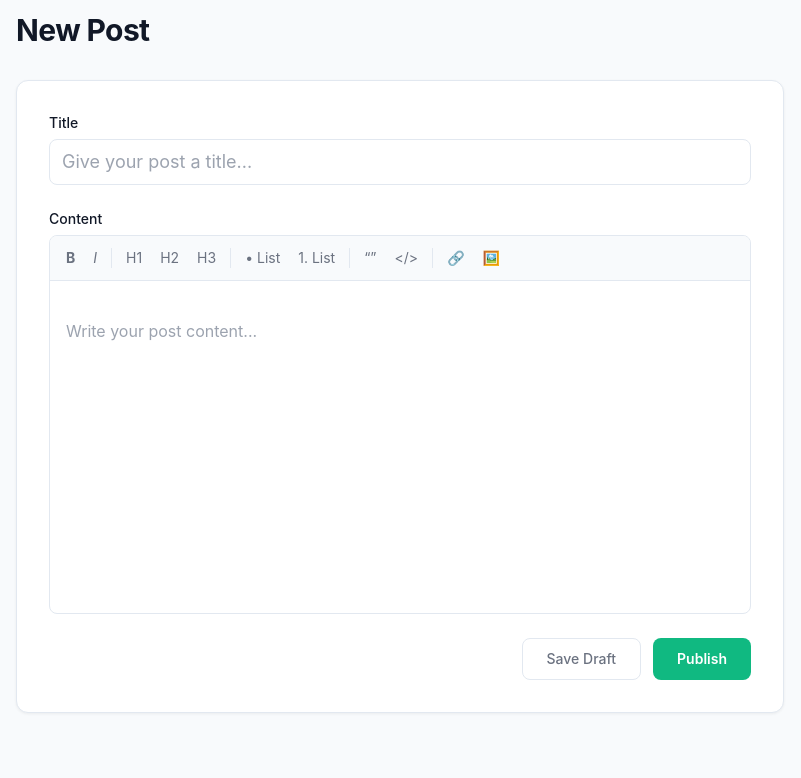
EditorPage › shows validation error when title is empty
Click the button "Save Draft": {"x": 581, "y": 659} [522,638,641,680]
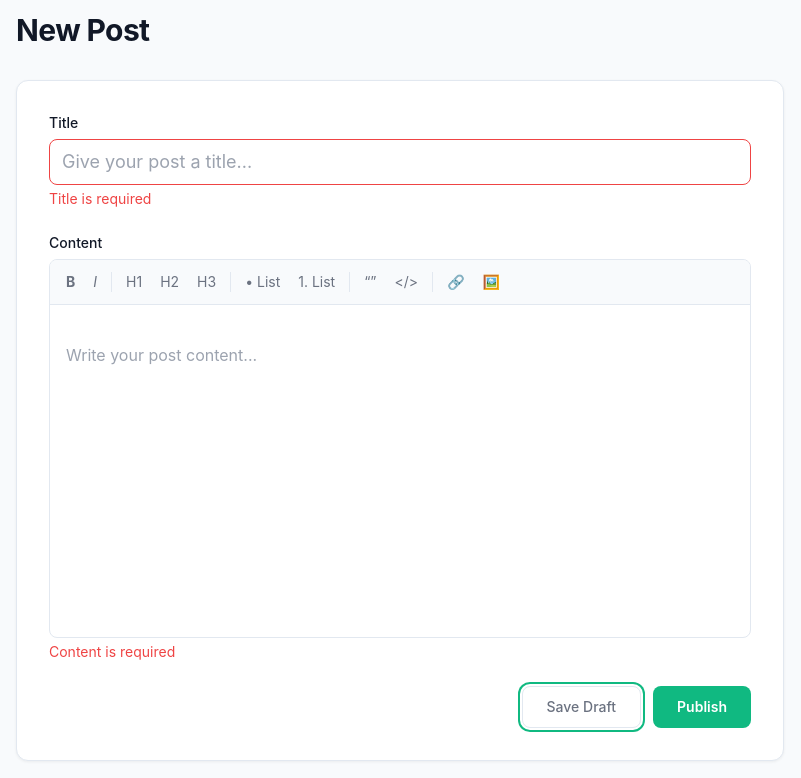
Expected: the text "Title is required" is shown, [49,190,151,207]
